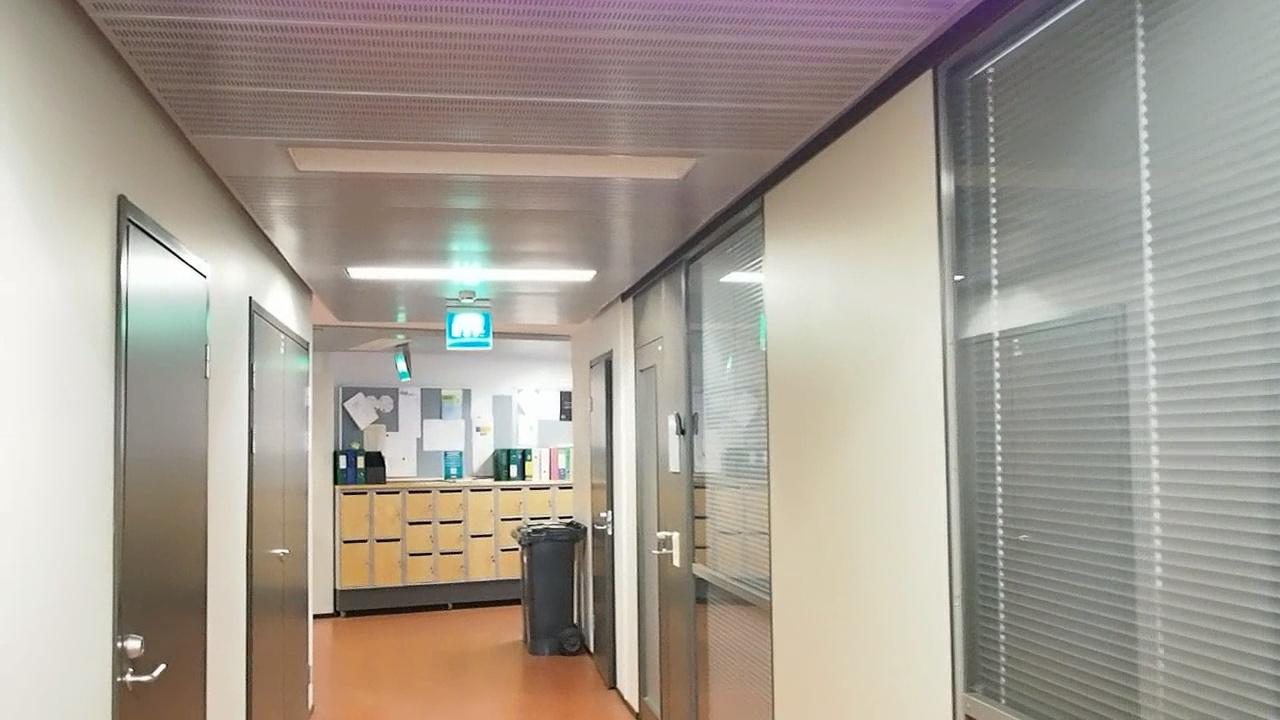trashbin: (517, 514, 578, 655)
